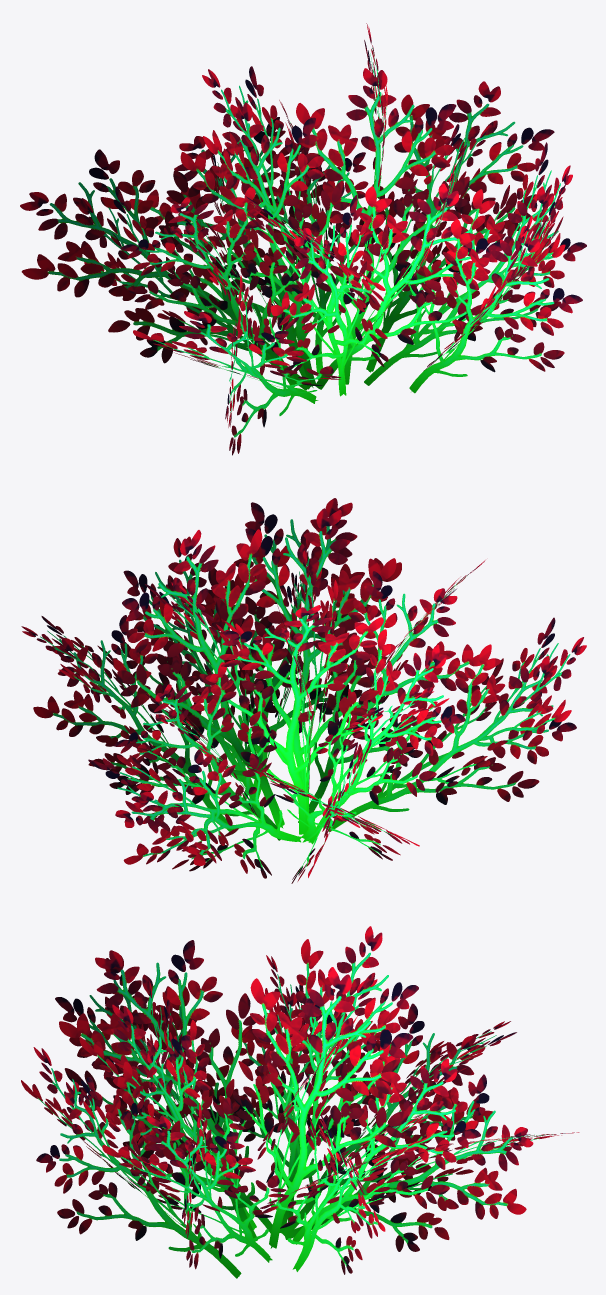
File: SM_Bush_A_02.fbx
3 renders of one model, top to bottom at view 1: azimuth 30°, elevation 25°; view 2: azimuth 150°, elevation 25°; view 3: azimuth 270°, elevation 25°, orthographic. The views are drawn at different scales.
Visible parts, largest first — view 1: SM_Bush_A_02_LOD0; view 2: SM_Bush_A_02_LOD0; view 3: SM_Bush_A_02_LOD0.
Part boxes in pixels (x1,y1,x2,y2): SM_Bush_A_02_LOD0: [20, 23, 586, 455]; SM_Bush_A_02_LOD0: [21, 498, 586, 883]; SM_Bush_A_02_LOD0: [21, 926, 579, 1278].
Bounding box in the file's own units: 267 × 174 × 281.
